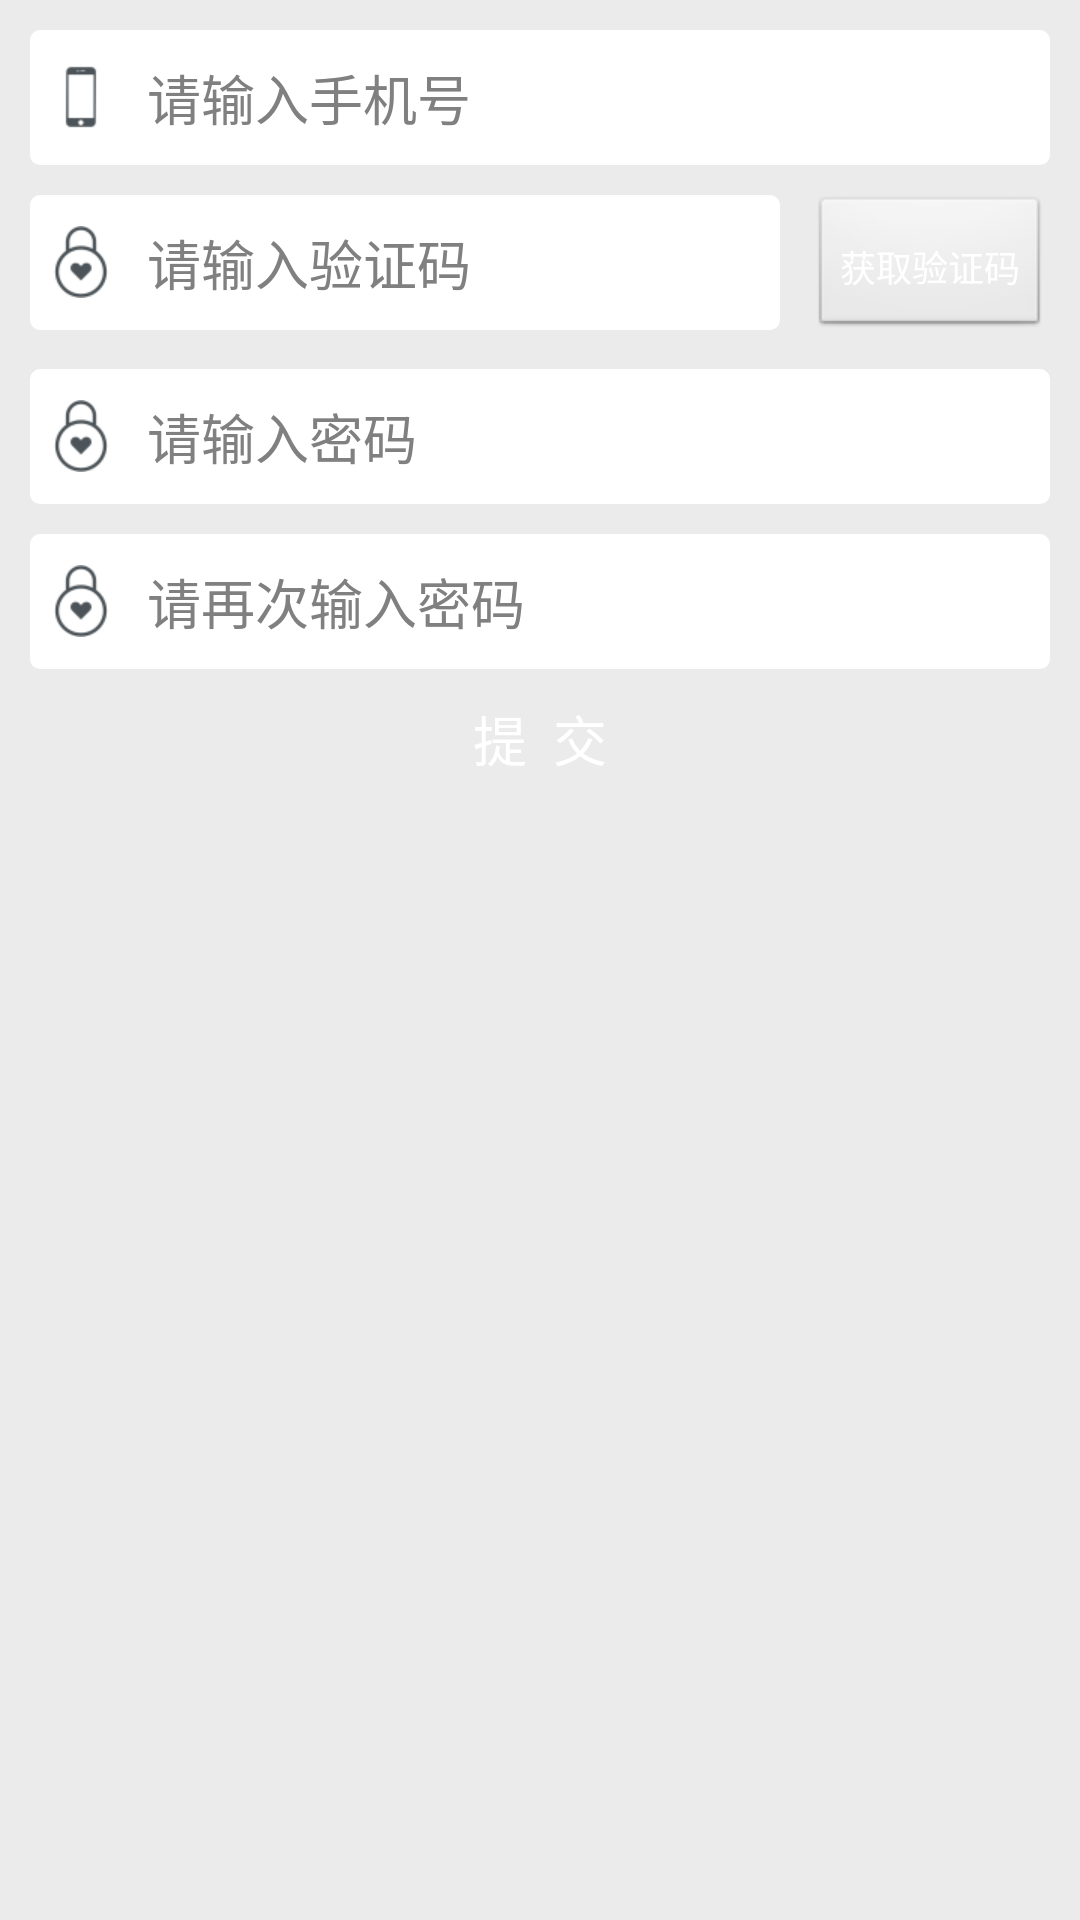

Named icons in this screenshot (1080*1920) and their centers, point (x, y):
password: point (81, 262), point (81, 436), point (81, 601)
phone balck: point (81, 97)
